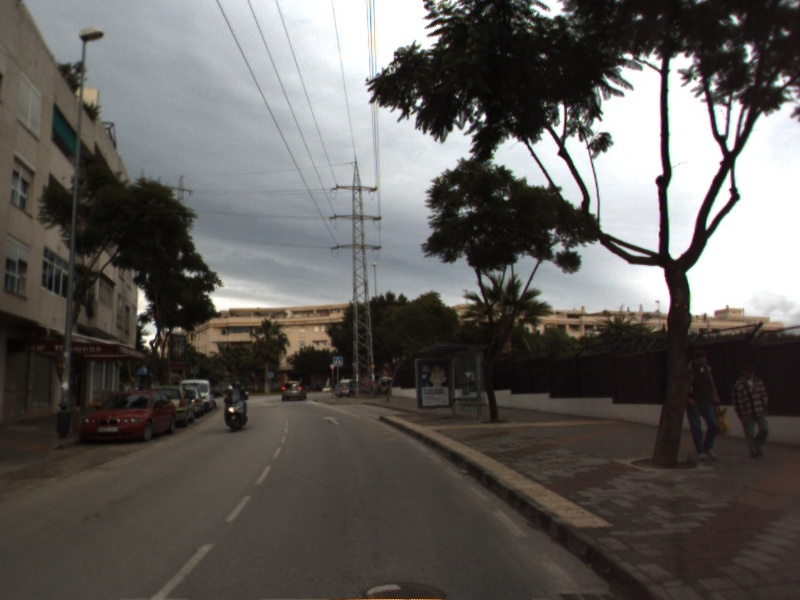STRAIGHT: (321, 413, 341, 427)
